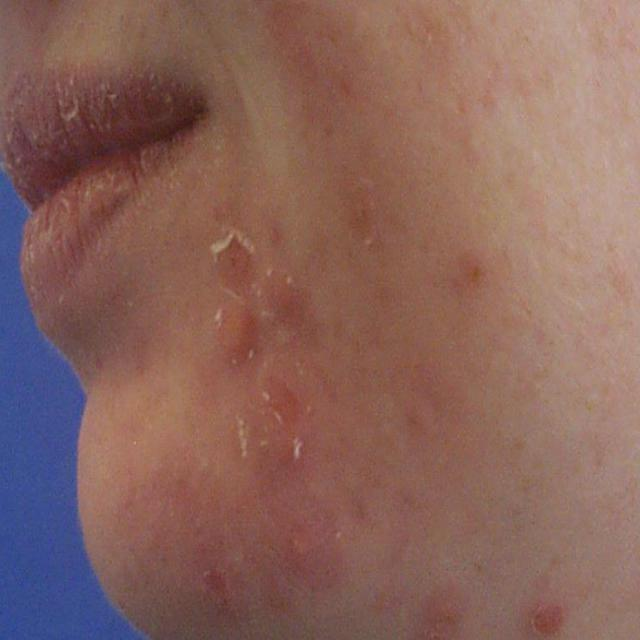Pimples: (526, 588, 574, 638), (426, 584, 466, 640), (468, 256, 488, 288)
